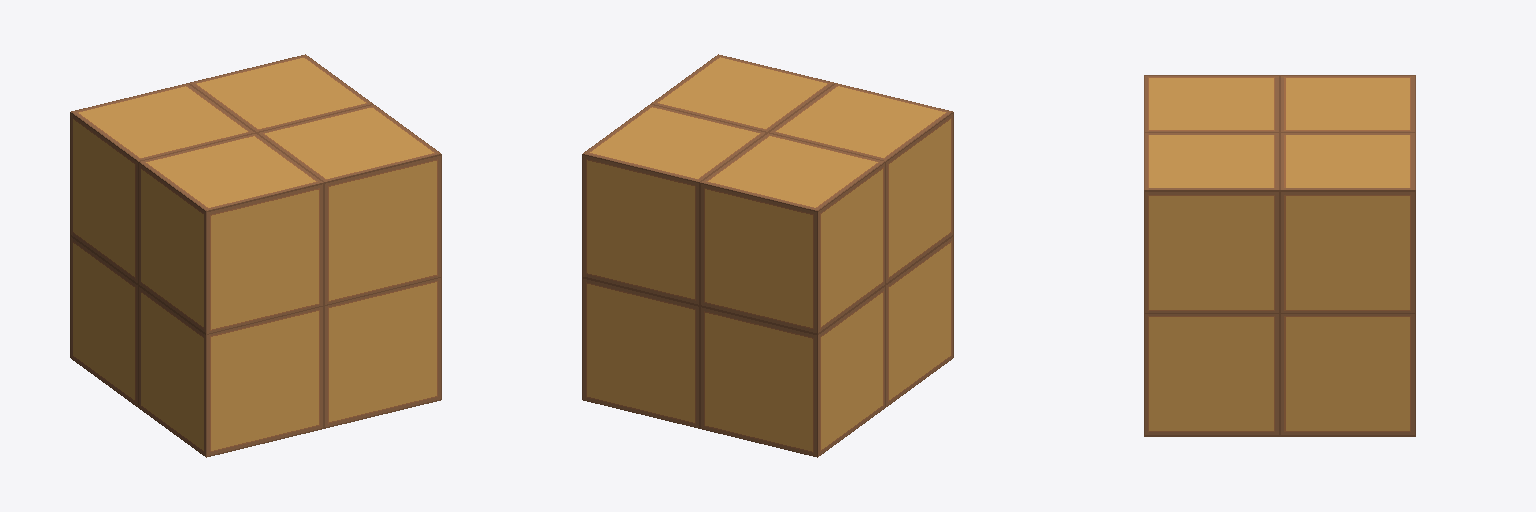
The picture shows the model from 3 angles: view 1: azimuth 30°, elevation 25°; view 2: azimuth 150°, elevation 25°; view 3: azimuth 270°, elevation 25°; orthographic projection.
Parts seen in each view (by area): view 1: Cube; view 2: Cube; view 3: Cube.
Boxes of the visible parts, <box> form: Cube: <box>70,54,441,457</box>; Cube: <box>582,54,953,457</box>; Cube: <box>1144,75,1415,436</box>.
Size of the model in its own units: 2 by 2 by 2.
1 materials, 1 textured.